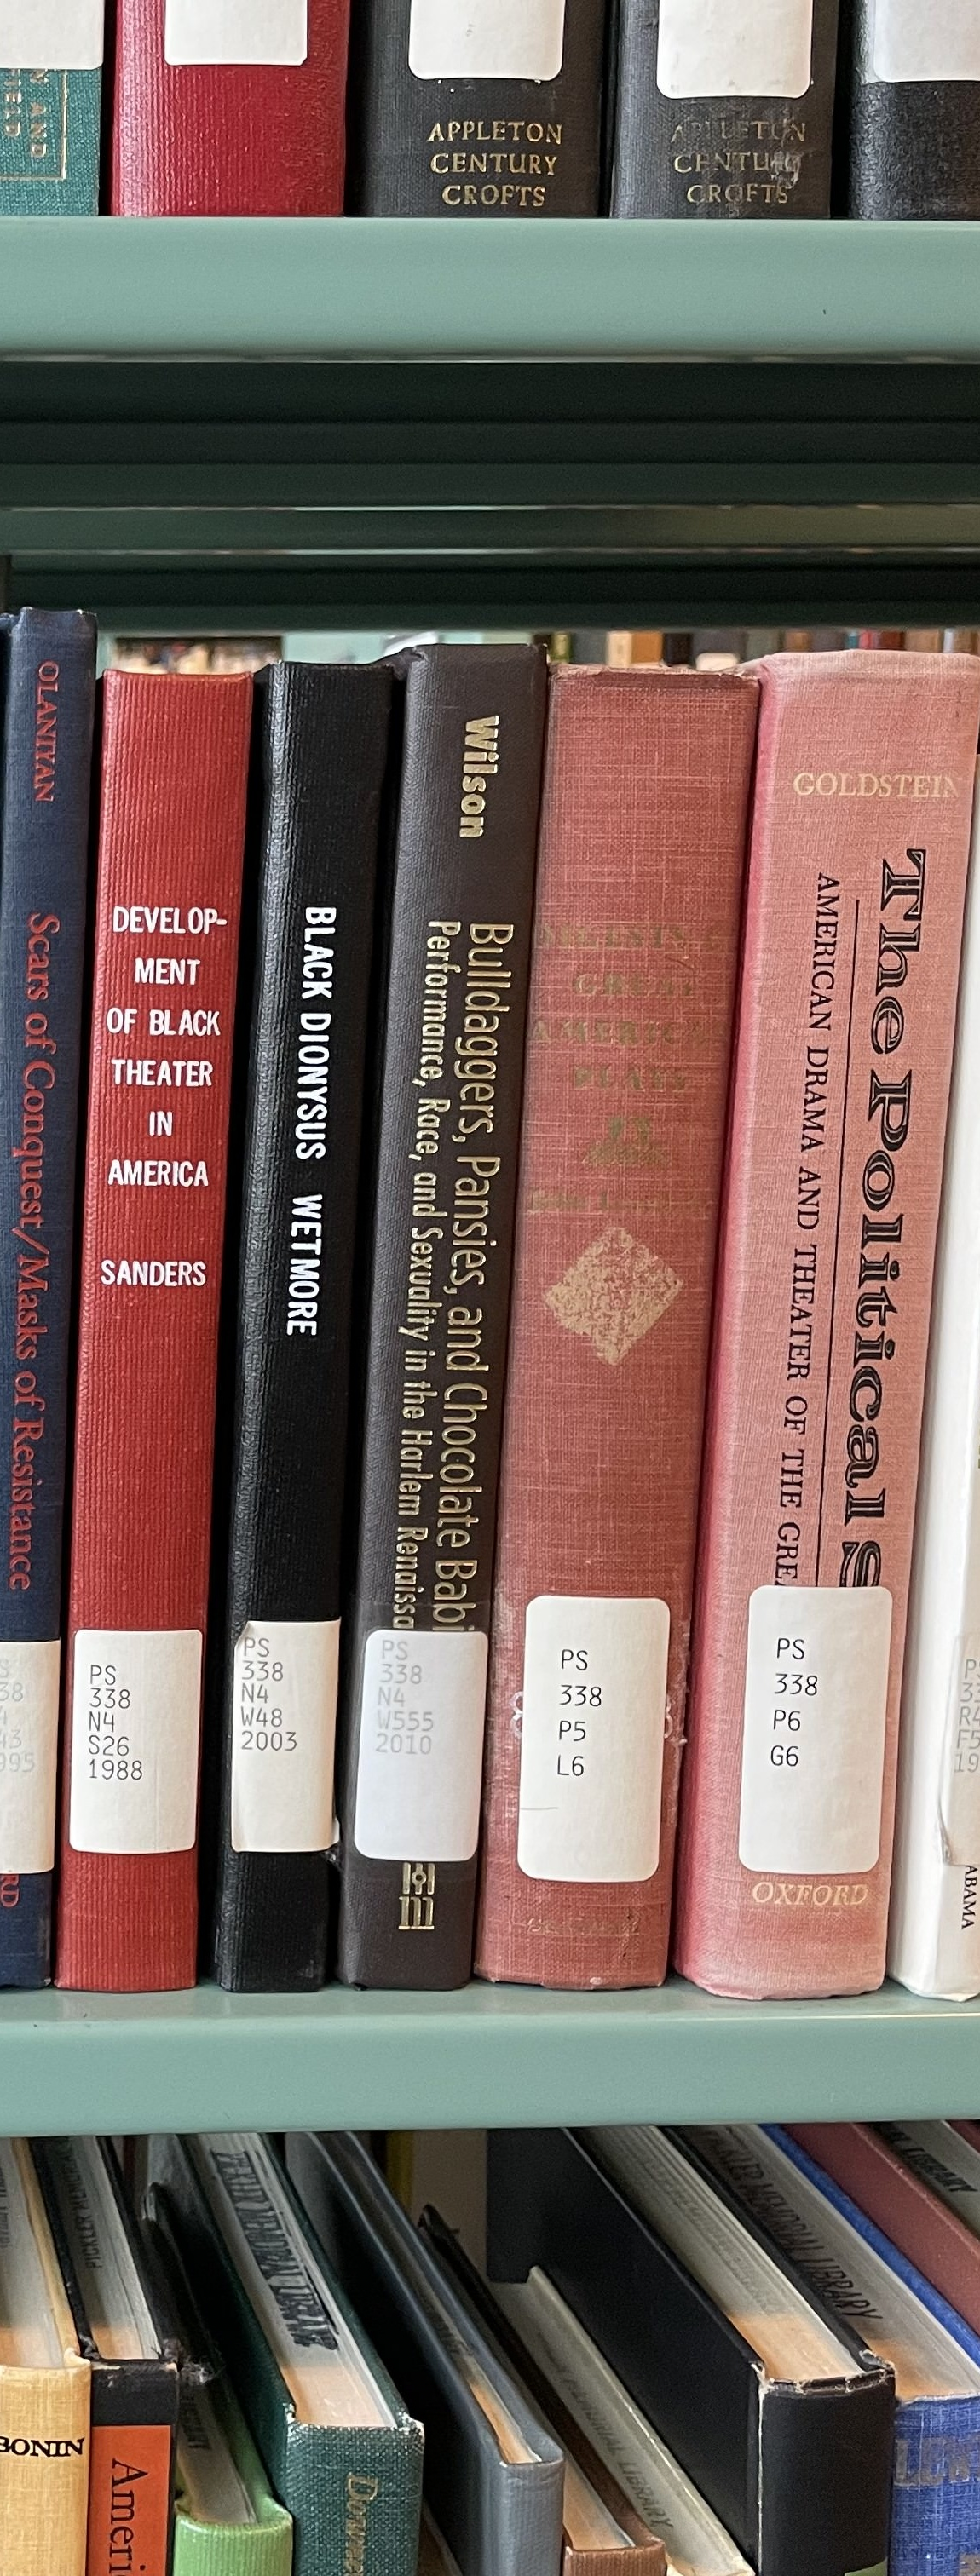call_number: (528, 1595, 658, 1878), (748, 1590, 876, 1874), (76, 1628, 194, 1847), (367, 1631, 480, 1858), (237, 1621, 334, 1850)
